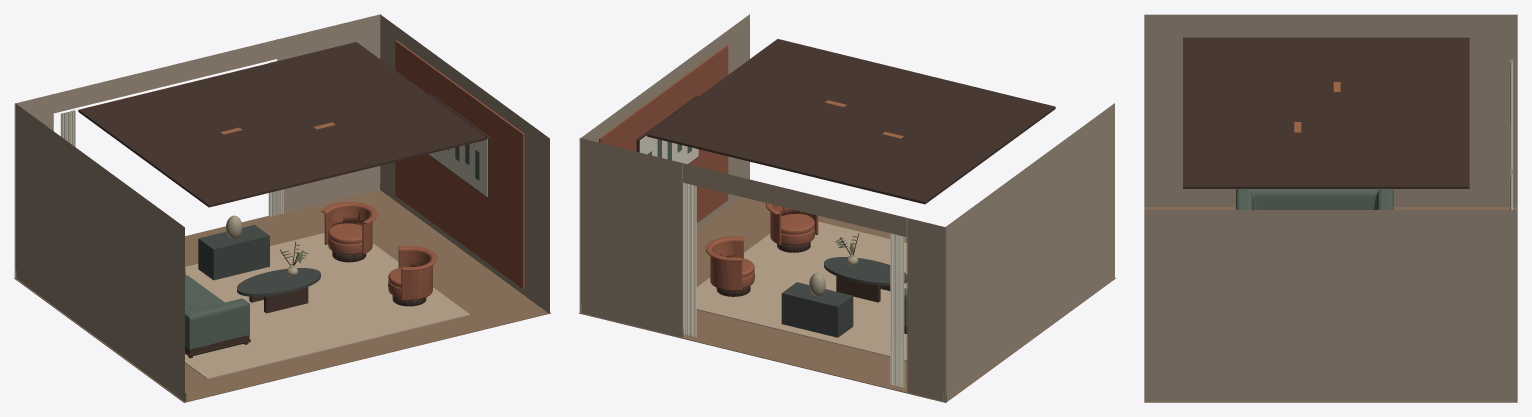
Rendered from great-3.glb.
3 renders of one model, left to right at view 1: azimuth 30°, elevation 25°; view 2: azimuth 150°, elevation 25°; view 3: azimuth 270°, elevation 25°, orthographic. The views are drawn at different scales.
Parts seen in each view (by area): view 1: DESIGN | great removable wall finish, DESIGN | Social ceiling field, DESIGN | great floor finish, DESIGN | Great room primary ground, DESIGN | Clay conversation wall, DESIGN | Great room sofa facing conversation, DESIGN | Object discussion plinth, DESIGN | Required Bellustar swivel chair two, DESIGN | Required Bellustar swivel chair one, DESIGN | Great room conversation table top, DESIGN | Textile artwork.001, DESIGN | Great room conversation table trestle (+2 smaller); view 2: DESIGN | great removable wall finish, DESIGN | Social ceiling field, DESIGN | great floor finish, DESIGN | Great room primary ground, DESIGN | Clay conversation wall, DESIGN | Object discussion plinth, DESIGN | Required Bellustar swivel chair two, DESIGN | Great room soft window edge, DESIGN | Great room soft window edge.001, DESIGN | Required Bellustar swivel chair one, DESIGN | Great room conversation table top, DESIGN | Textile artwork.001 (+1 smaller); view 3: DESIGN | great removable wall finish, DESIGN | Social ceiling field, DESIGN | Great room sofa facing conversation, DESIGN | great floor finish, DESIGN | Great room soft window edge.
Part boxes in pixels (box(x1,y1,x2,y2)): DESIGN | great removable wall finish: box(14, 14, 549, 401); DESIGN | Social ceiling field: box(78, 42, 486, 207); DESIGN | great floor finish: box(14, 190, 550, 402); DESIGN | Great room primary ground: box(185, 233, 470, 379); DESIGN | Clay conversation wall: box(395, 40, 524, 288); DESIGN | Great room sofa facing conversation: box(185, 268, 250, 358); DESIGN | Object discussion plinth: box(198, 225, 269, 280); DESIGN | Required Bellustar swivel chair two: box(321, 202, 377, 262); DESIGN | Required Bellustar swivel chair one: box(388, 246, 437, 306); DESIGN | Great room conversation table top: box(237, 268, 320, 296); DESIGN | Textile artwork.001: box(428, 138, 487, 196); DESIGN | Great room conversation table trestle: box(264, 287, 308, 313); DESIGN | great removable wall finish: box(579, 14, 1114, 401); DESIGN | Social ceiling field: box(647, 39, 1055, 204); DESIGN | great floor finish: box(579, 196, 1115, 402); DESIGN | Great room primary ground: box(696, 221, 907, 360); DESIGN | Clay conversation wall: box(599, 45, 728, 222); DESIGN | Object discussion plinth: box(781, 282, 853, 337); DESIGN | Required Bellustar swivel chair two: box(705, 236, 754, 296); DESIGN | Great room soft window edge: box(890, 233, 904, 387); DESIGN | Great room soft window edge.001: box(683, 182, 696, 337); DESIGN | Required Bellustar swivel chair one: box(765, 203, 818, 252); DESIGN | Great room conversation table top: box(824, 257, 907, 285); DESIGN | Textile artwork.001: box(639, 135, 698, 164); DESIGN | great removable wall finish: box(1144, 14, 1517, 401); DESIGN | Social ceiling field: box(1183, 37, 1469, 188); DESIGN | Great room sofa facing conversation: box(1236, 189, 1393, 209); DESIGN | great floor finish: box(1144, 207, 1517, 402); DESIGN | Great room soft window edge: box(1509, 59, 1513, 170).
Bounding box in the file's own units: 6 × 2.74 × 4.82.
